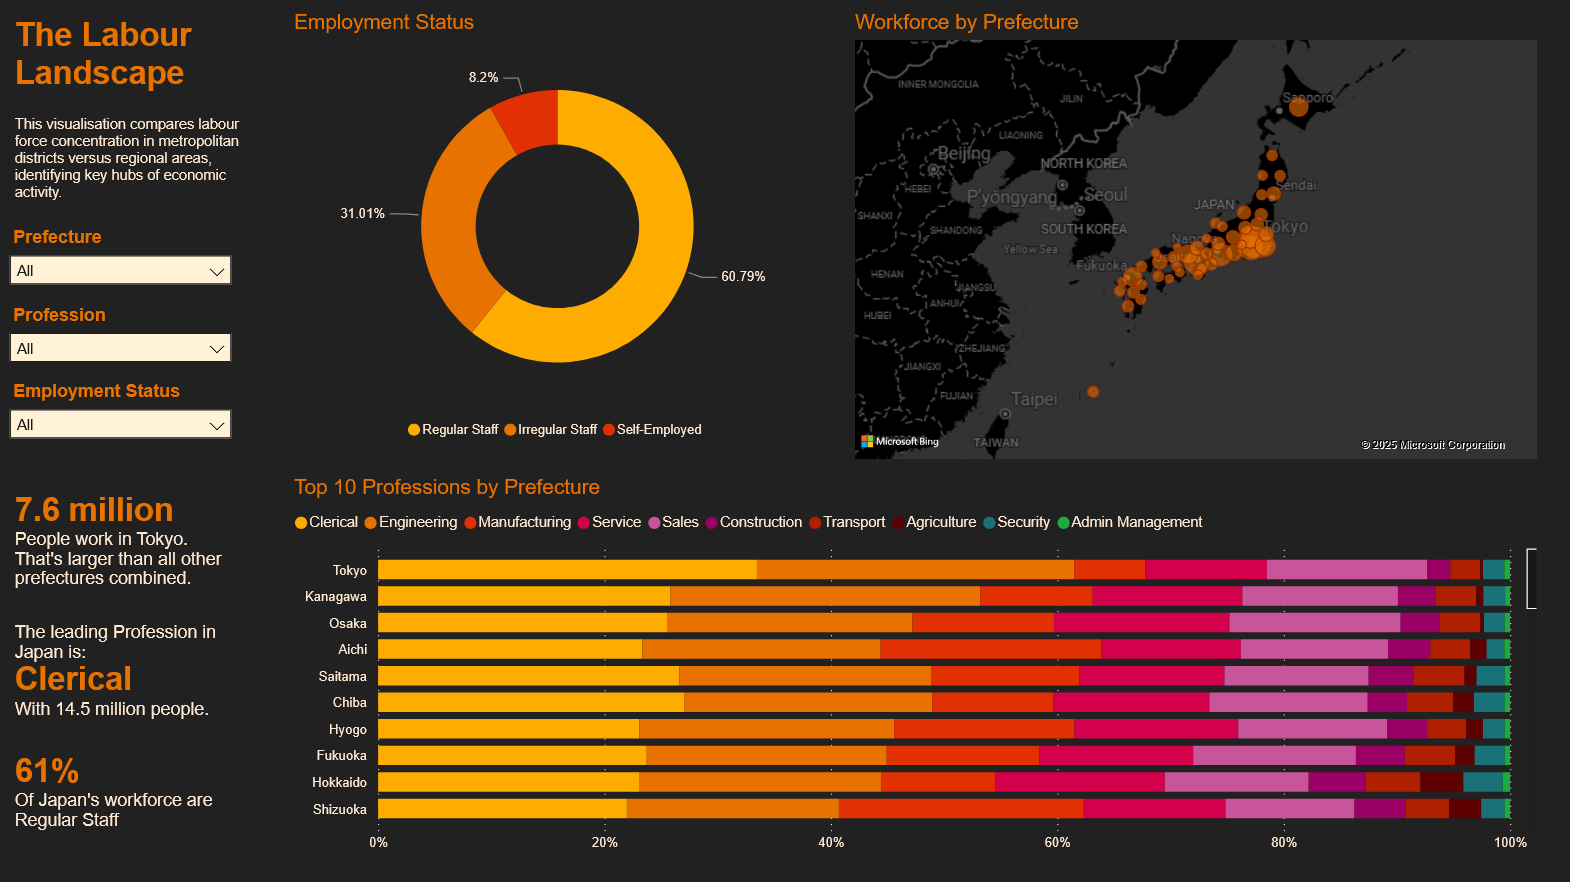

The page's visual inventory and layout, read from the dashboard file:
{"tool":"powerbi","page":{"name":"The Labour Landscape","canvas":[1280,720],"ordinal":0},"visuals":[{"type":"textbox","box":[9,10,193,73],"z":0},{"type":"hundredPercentStackedBarChart","title":"Top 10 Professions by Prefecture","fields":{"Category":["japan_comprehensive_data.Prefecture"],"Y":["Sum(japan_comprehensive_data.Value)"],"Series":["Profession Sort Table.Profession"]},"box":[238.4,391.9,1030.3,316.2],"z":1000},{"type":"slicer","fields":{"Values":["japan_comprehensive_data.Employment Status"]},"box":[0,309.1,202,62.6],"z":2000},{"type":"donutChart","title":"Employment Status","fields":{"Y":["Sum(japan_comprehensive_data.Value)"],"Category":["japan_comprehensive_data.Employment Status"]},"box":[238.5,10.2,442.4,361.5],"z":3000},{"type":"slicer","fields":{"Values":["japan_comprehensive_data.Prefecture"]},"box":[0,182.8,202,63.6],"z":4000},{"type":"slicer","fields":{"Values":["japan_comprehensive_data.Profession"]},"box":[0,246.5,202,62.6],"z":5000},{"type":"map","title":"Workforce by Prefecture","fields":{"Size":["Sum(japan_comprehensive_data.Value)"],"Category":["japan_comprehensive_data.Prefecture"]},"box":[699,10.1,569.7,372.7],"z":6000},{"type":"textbox","box":[9,91,212,85],"z":7000},{"type":"textbox","box":[9.1,400,202,308.1],"z":8000}]}

Visuals, with their boxes in screenshot pixels (x1, y1, x2, y2), scaled from the page's 1280x720 canvas onto the 1570x882 screenshot:
textbox: Rect(11, 12, 248, 102)
"Top 10 Professions by Prefecture" hundredPercentStackedBarChart: Rect(292, 480, 1556, 867)
slicer - japan_comprehensive_data.Employment Status: Rect(0, 379, 248, 455)
"Employment Status" donutChart: Rect(293, 12, 835, 455)
slicer - japan_comprehensive_data.Prefecture: Rect(0, 224, 248, 302)
slicer - japan_comprehensive_data.Profession: Rect(0, 302, 248, 379)
"Workforce by Prefecture" map: Rect(857, 12, 1556, 469)
textbox: Rect(11, 111, 271, 216)
textbox: Rect(11, 490, 259, 867)
